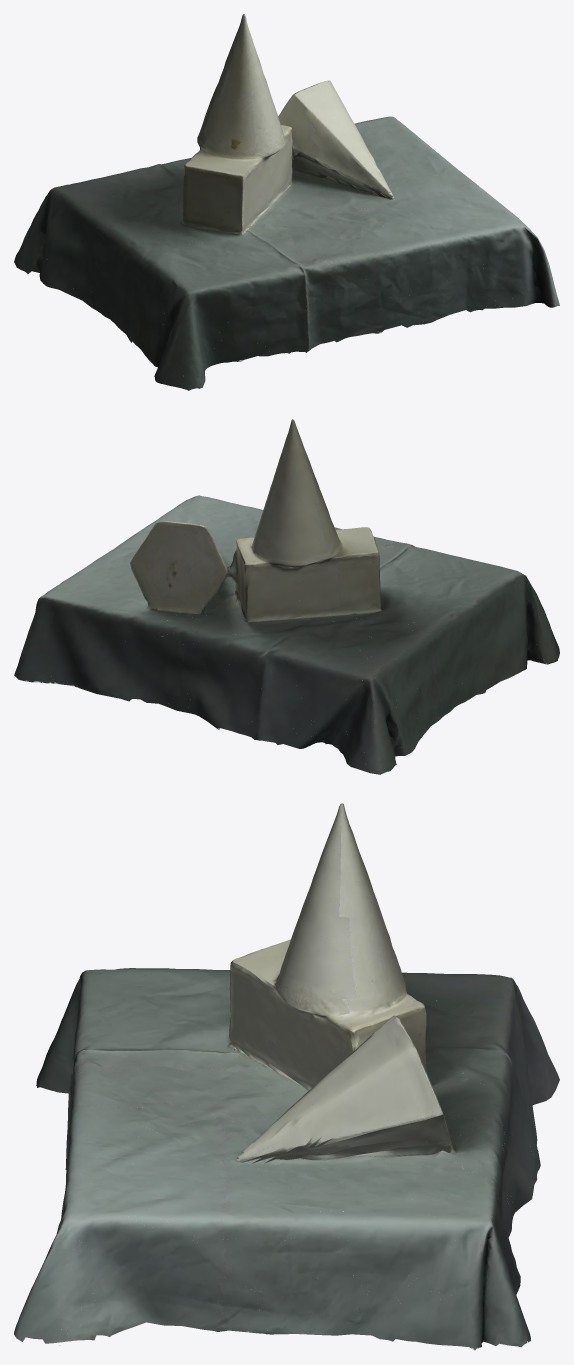
The model's file is 静物_几何体_圆锥长方体01_opt.glb.
3 renders of one model, top to bottom at view 1: azimuth 30°, elevation 25°; view 2: azimuth 150°, elevation 25°; view 3: azimuth 270°, elevation 25°, orthographic. The views are drawn at different scales.
Visible parts, largest first — view 1: defaultMat, defaultMat_1; view 2: defaultMat, defaultMat_1; view 3: defaultMat, defaultMat_1.
Part boxes in pixels (x1=…): defaultMat: x1=14, y1=14, x2=559, y2=390; defaultMat_1: x1=26, y1=19, x2=556, y2=390; defaultMat: x1=14, y1=419, x2=559, y2=774; defaultMat_1: x1=19, y1=422, x2=543, y2=767; defaultMat: x1=14, y1=803, x2=559, y2=1350; defaultMat_1: x1=19, y1=804, x2=557, y2=1350.
Bounding box in the file's own units: 0.4691 × 0.3 × 0.3812.
1 material, 1 textured.
